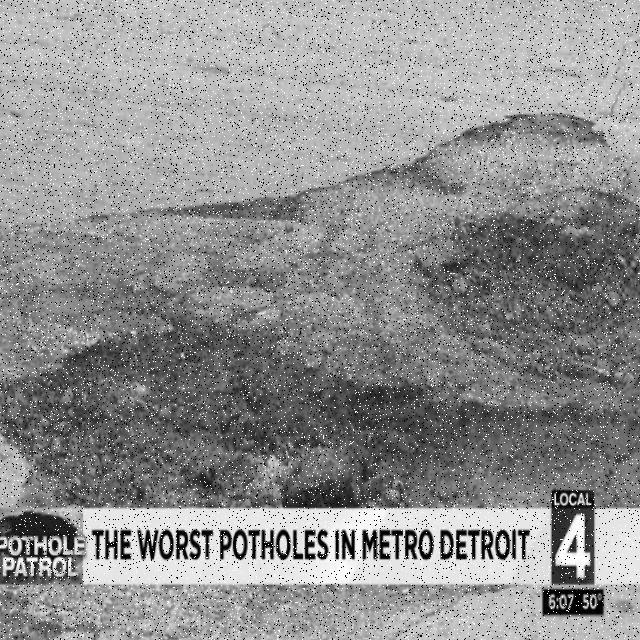pothole: (0, 106, 640, 500)
